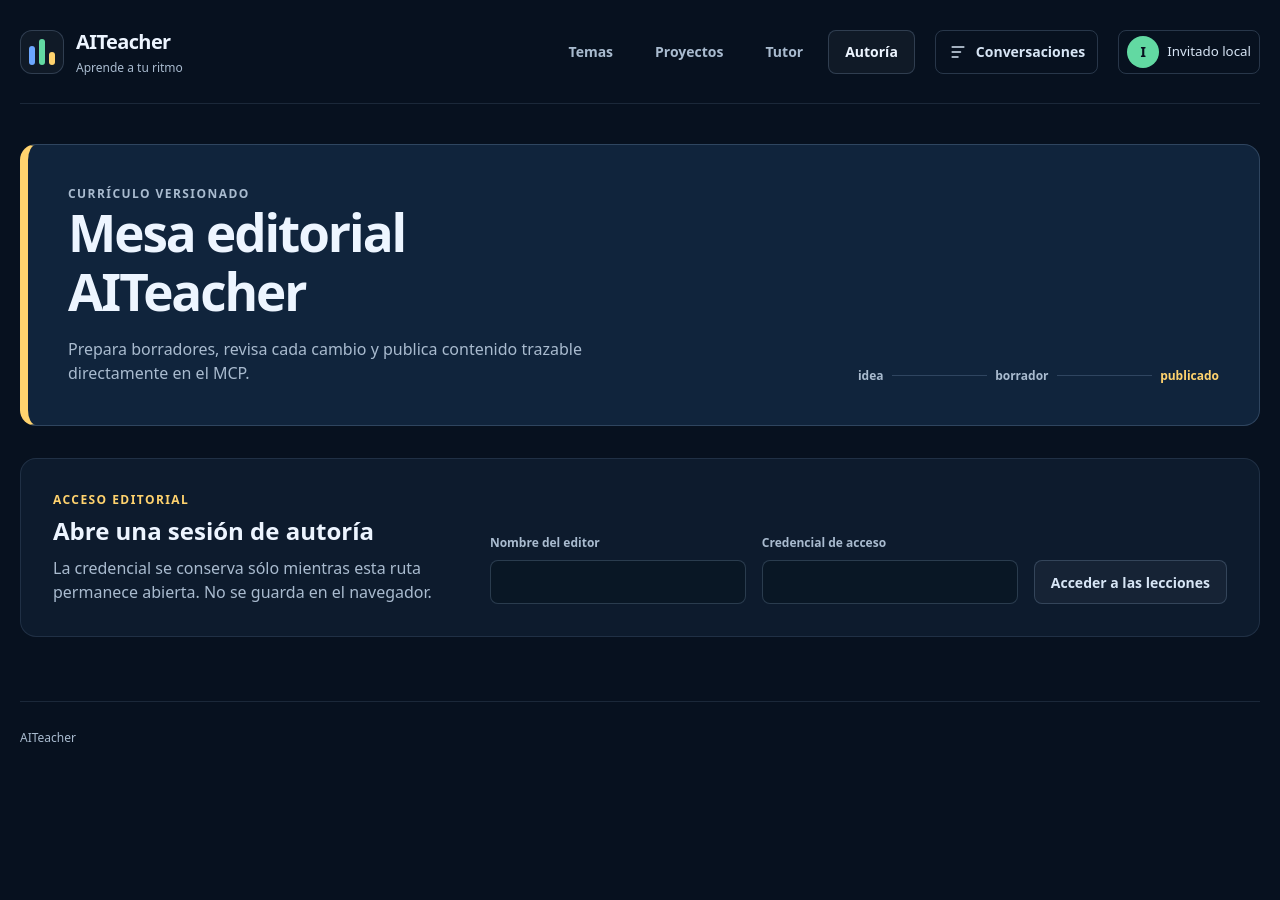
Scenario: AuthoringScreen › mantiene la credencial en el gate, recupera un error y presenta el estado vacío
Type "Ana Editora" into the field labelled "Nombre del editor" at (618, 582), box [490, 560, 746, 604]
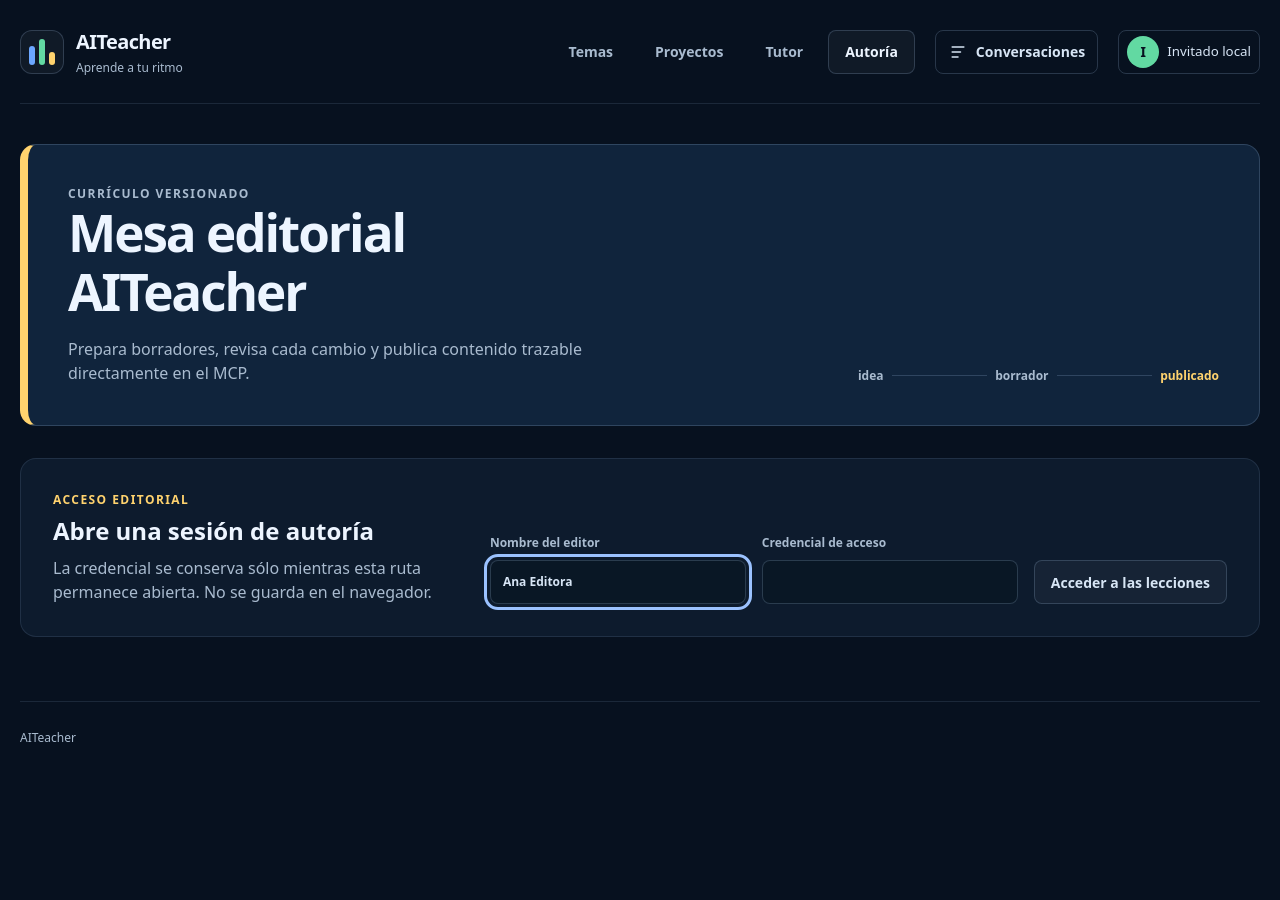
Type "panel-secret" into the password field labelled "Credencial de acceso" at (890, 582), box [762, 560, 1018, 604]
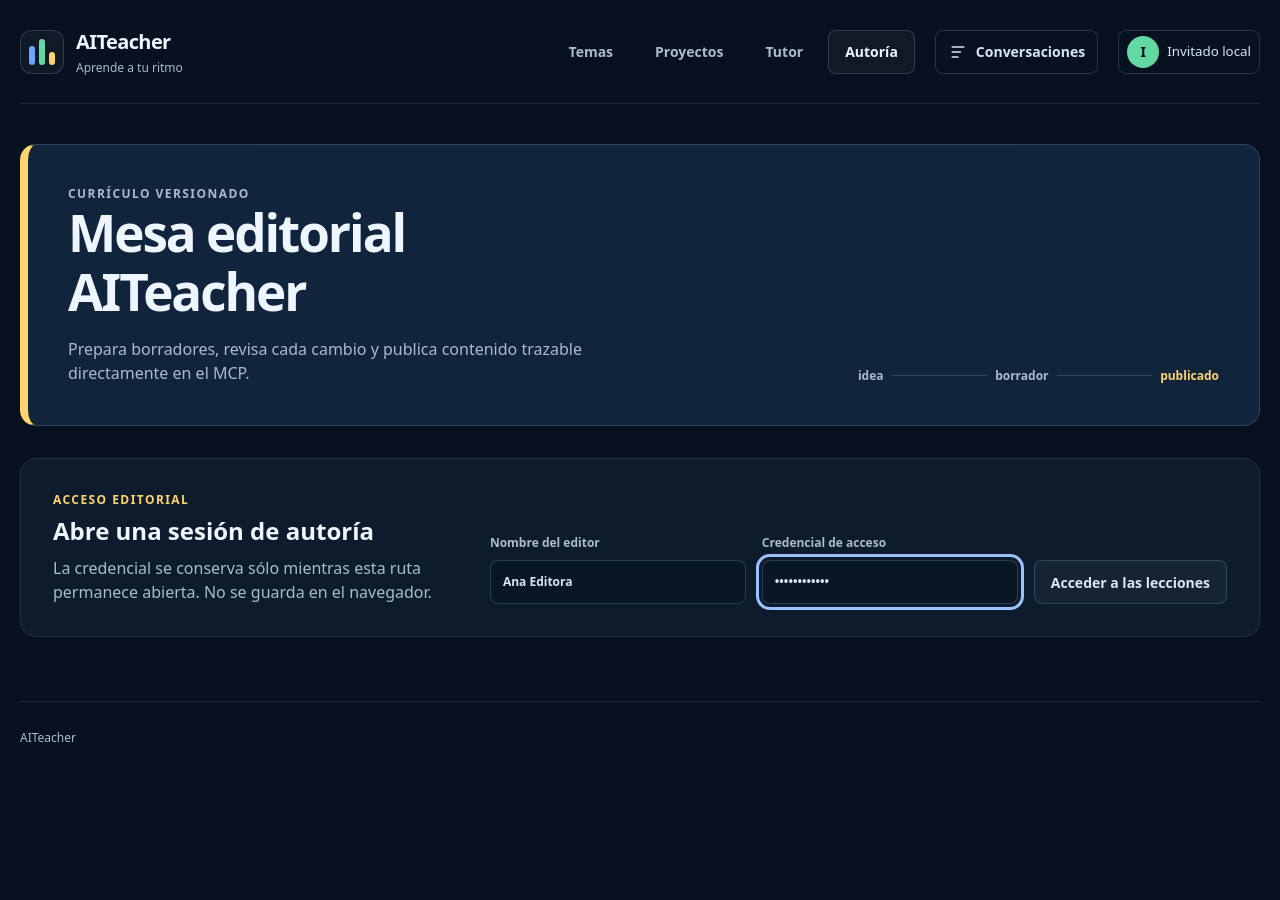
Click the button "Acceder a las lecciones" at (1130, 582), box [1034, 560, 1227, 604]
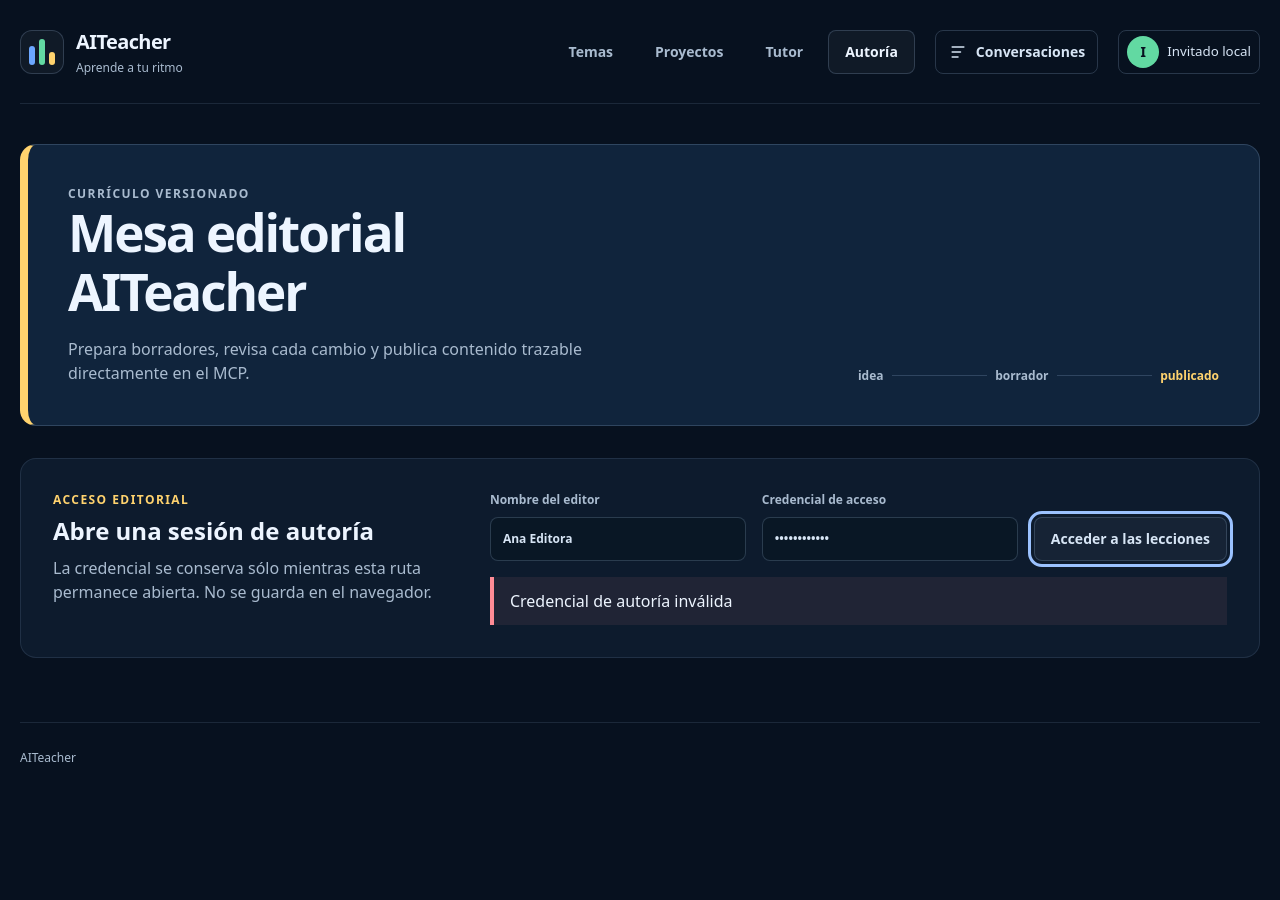
expect the message reads "Credencial de autoría inválida": met, box [510, 590, 733, 612]
Click the button "Acceder a las lecciones" at (1130, 539), box [1034, 517, 1227, 561]
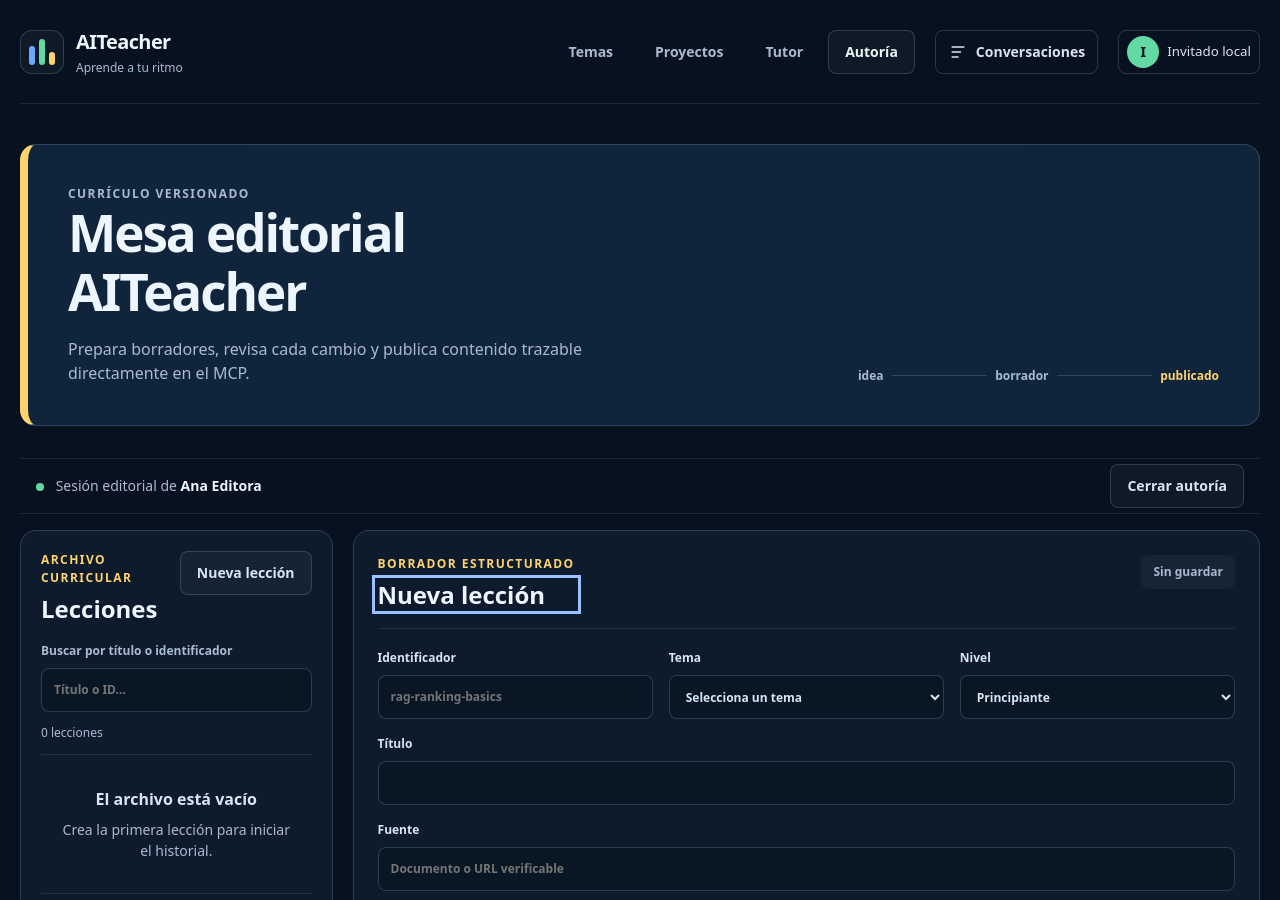
expect the text "El archivo está vacío" is shown: met, box [96, 788, 257, 810]
